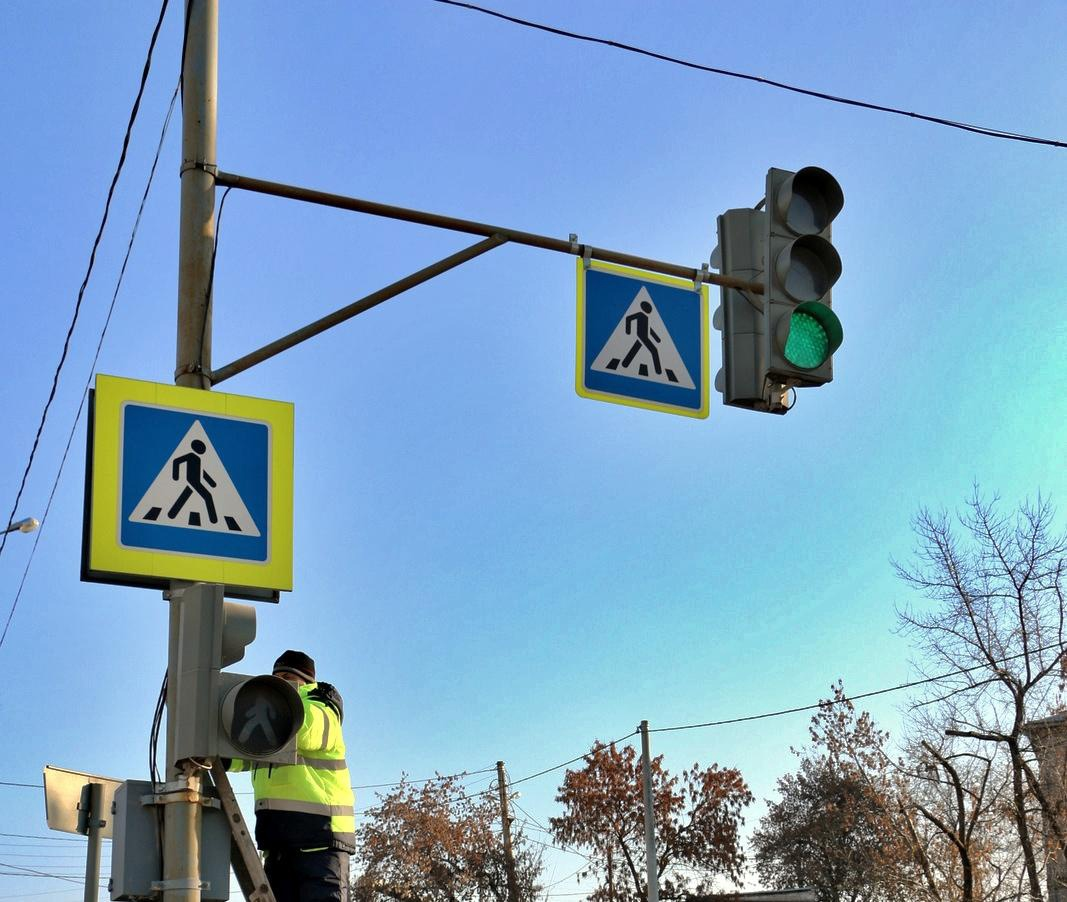tl: (696, 160, 854, 420)
